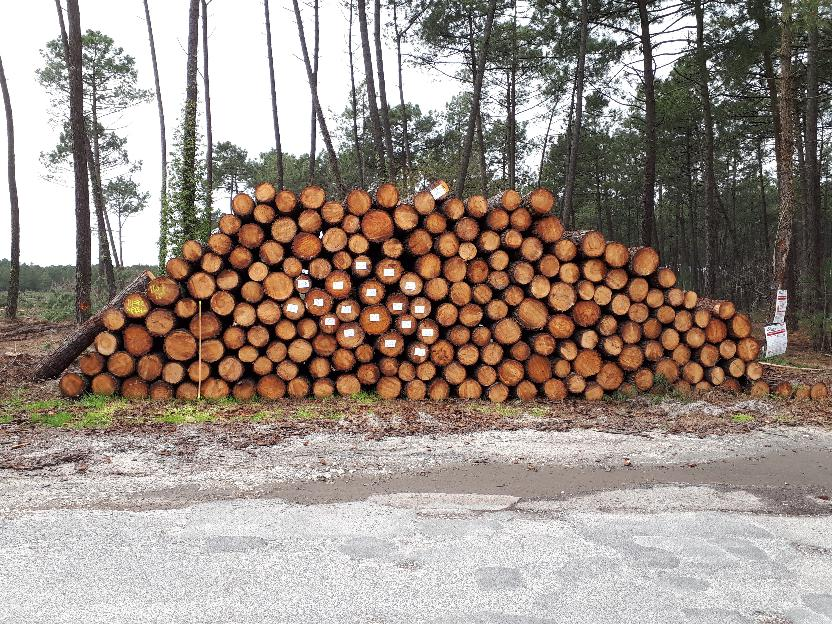object: (362, 209, 394, 242), (162, 330, 196, 361), (360, 304, 390, 336), (188, 312, 222, 339), (122, 326, 152, 356), (290, 232, 322, 260), (262, 271, 294, 299), (631, 246, 659, 276), (147, 276, 177, 304), (548, 281, 576, 311), (518, 298, 546, 328), (145, 309, 175, 337), (334, 320, 364, 348), (256, 373, 288, 399), (195, 299, 203, 399), (375, 256, 403, 284), (536, 216, 564, 242), (186, 272, 214, 298), (526, 354, 552, 382), (496, 360, 524, 386), (374, 376, 404, 400), (306, 288, 333, 314), (574, 350, 600, 377), (596, 361, 622, 388), (237, 222, 263, 248), (258, 239, 284, 265), (122, 292, 148, 318), (573, 300, 599, 326), (107, 350, 133, 376), (530, 186, 554, 214), (347, 186, 371, 214), (326, 270, 350, 298), (494, 318, 522, 342), (138, 352, 162, 380), (582, 228, 604, 258), (375, 182, 399, 208), (299, 185, 325, 209), (394, 204, 418, 230), (270, 218, 296, 242), (436, 230, 460, 256), (604, 241, 628, 267), (398, 271, 422, 297), (548, 314, 574, 338), (378, 330, 402, 356), (288, 339, 314, 363), (618, 345, 642, 371), (654, 358, 680, 382), (60, 371, 84, 397), (92, 372, 116, 398), (468, 256, 490, 284), (425, 275, 448, 301), (202, 378, 228, 401), (322, 226, 346, 250), (164, 256, 188, 280), (430, 341, 454, 365), (413, 189, 435, 215), (409, 228, 431, 254), (418, 253, 440, 279), (362, 278, 384, 304), (417, 318, 439, 344), (336, 374, 362, 396), (583, 258, 606, 282), (449, 280, 472, 304), (257, 300, 280, 324), (198, 338, 221, 362), (219, 356, 242, 380), (457, 378, 481, 401), (336, 300, 362, 321), (466, 194, 488, 218), (321, 199, 343, 223), (298, 210, 322, 232), (456, 217, 478, 241), (444, 258, 468, 280), (211, 291, 233, 315), (233, 302, 255, 326), (314, 333, 338, 355), (532, 333, 556, 355), (737, 336, 759, 360), (332, 348, 356, 370), (356, 362, 380, 384), (522, 235, 542, 261), (209, 232, 232, 254), (554, 239, 576, 262), (247, 325, 270, 347), (443, 361, 465, 384), (406, 379, 429, 401), (488, 381, 511, 403), (233, 192, 254, 216), (459, 304, 484, 324), (635, 366, 654, 392), (274, 190, 296, 212), (487, 208, 509, 230), (230, 246, 252, 268), (386, 293, 408, 315), (282, 297, 304, 319), (102, 308, 124, 330), (223, 327, 245, 349), (93, 333, 115, 355), (457, 343, 479, 365), (80, 352, 102, 374), (313, 376, 335, 398), (430, 377, 452, 399), (124, 377, 146, 399), (516, 379, 538, 401), (544, 379, 566, 401), (233, 381, 256, 402), (511, 206, 531, 230), (628, 277, 648, 301), (705, 319, 725, 343), (621, 320, 641, 344), (733, 312, 751, 338), (216, 268, 237, 290), (410, 298, 432, 319), (437, 304, 458, 326), (287, 378, 309, 399), (429, 178, 449, 200), (254, 182, 274, 204), (427, 211, 447, 233), (480, 230, 500, 252), (347, 233, 369, 253), (283, 256, 303, 278), (309, 257, 329, 279), (514, 261, 534, 283), (607, 267, 627, 289), (174, 297, 196, 317), (318, 312, 340, 332), (396, 312, 416, 334), (296, 318, 318, 338), (447, 325, 469, 345), (409, 340, 429, 362), (482, 342, 502, 364), (276, 359, 298, 379), (186, 361, 208, 381), (682, 361, 702, 383), (162, 363, 184, 383), (476, 364, 496, 386), (584, 380, 604, 402), (353, 254, 371, 278), (219, 214, 240, 234), (247, 262, 268, 282), (489, 269, 510, 289), (628, 302, 648, 323), (672, 343, 692, 364), (310, 356, 330, 377), (183, 239, 202, 261), (540, 254, 559, 276), (500, 189, 520, 209), (445, 198, 465, 218), (490, 249, 510, 269), (560, 262, 580, 282), (472, 284, 492, 304), (275, 319, 295, 339), (686, 327, 706, 347), (266, 342, 286, 362), (381, 237, 403, 255), (198, 252, 220, 270), (530, 276, 548, 298), (594, 284, 612, 306), (612, 293, 630, 315), (674, 310, 692, 332), (643, 318, 661, 340), (702, 344, 720, 366), (149, 381, 171, 399), (503, 228, 522, 248), (487, 301, 508, 319), (604, 334, 622, 355), (644, 340, 662, 361), (254, 205, 274, 223), (343, 213, 361, 233), (457, 241, 477, 259), (332, 251, 352, 269), (657, 267, 675, 287), (242, 282, 262, 300), (505, 286, 523, 306), (656, 305, 674, 325), (692, 308, 712, 326), (580, 329, 598, 349), (252, 356, 272, 374), (728, 358, 748, 376), (415, 361, 435, 379), (662, 327, 678, 349), (552, 359, 570, 378), (568, 375, 587, 393), (294, 275, 312, 293), (599, 316, 617, 334), (511, 341, 529, 359), (380, 357, 398, 375), (177, 383, 195, 401), (474, 326, 491, 345), (578, 280, 594, 300), (238, 346, 258, 362), (720, 339, 736, 358), (648, 287, 663, 307), (719, 300, 734, 320), (561, 341, 577, 359), (356, 344, 372, 362), (398, 362, 414, 380), (752, 380, 768, 398), (619, 382, 637, 398), (710, 365, 724, 385), (794, 381, 810, 398), (667, 287, 682, 305), (775, 380, 791, 396), (683, 290, 697, 308), (748, 361, 762, 379), (812, 381, 826, 399), (674, 381, 692, 392), (723, 378, 739, 390), (696, 380, 710, 390)
pile: (54, 174, 830, 410)
